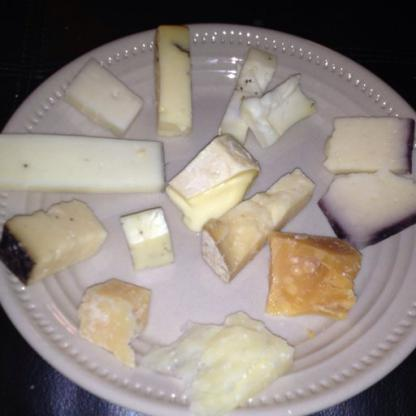mozarella cheese: (154, 314, 286, 414), (0, 130, 164, 202), (196, 172, 312, 271), (221, 45, 310, 143), (171, 133, 256, 226), (0, 199, 94, 283), (320, 166, 415, 249), (69, 58, 144, 139), (77, 280, 152, 361), (326, 113, 414, 177), (151, 21, 198, 134), (117, 210, 177, 270)
